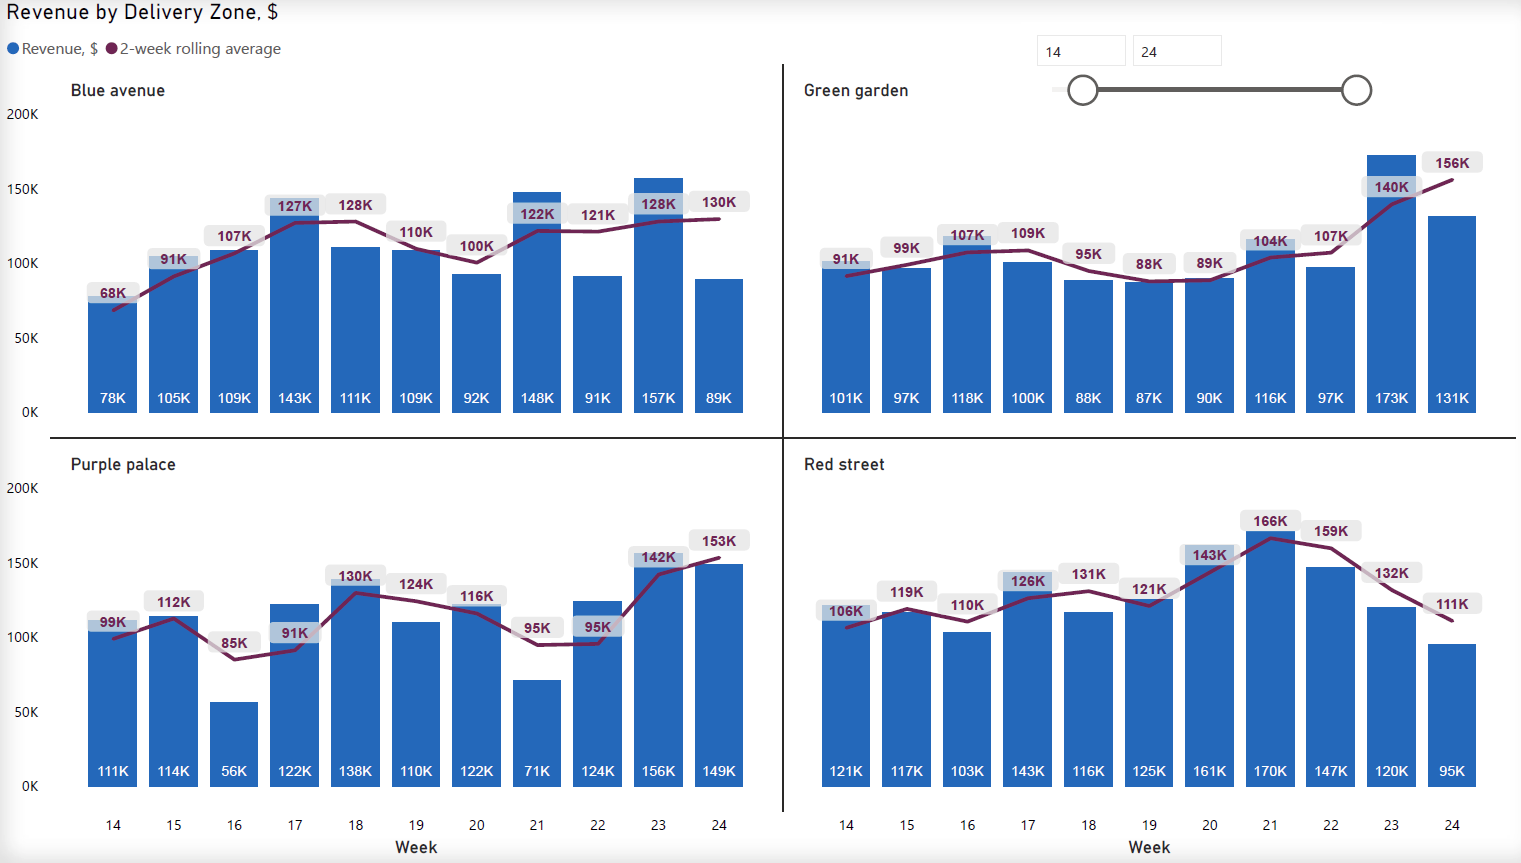

Layout of this report page (visuals, bound fields, positions):
{"tool":"powerbi","page":{"name":"Week -  Revenue_by_zone","canvas":[1280,720],"ordinal":2},"visuals":[{"type":"lineStackedColumnComboChart","title":"Revenue by Delivery Zone, $","fields":{"Rows":["zone_economy.delivery_zone"],"Category":["zone_economy.Week"],"Y2":["zone_economy.Weekly Rolling Average Revenue per Zone"],"Y":["Sum(zone_economy.revenue)"]},"box":[0,0,1280,719.8],"z":0},{"type":"slicer","fields":{"Values":["zone_economy.Week"]},"box":[850,20,300,79],"z":3000}]}

Visuals, with their boxes in screenshot pixels (x1, y1, x2, y2), scaled from the page's 1280x720 canvas onto the 1521x863 screenshot:
"Revenue by Delivery Zone, $" lineStackedColumnComboChart: box(0, 0, 1520, 862)
slicer - zone_economy.Week: box(1010, 24, 1367, 119)
